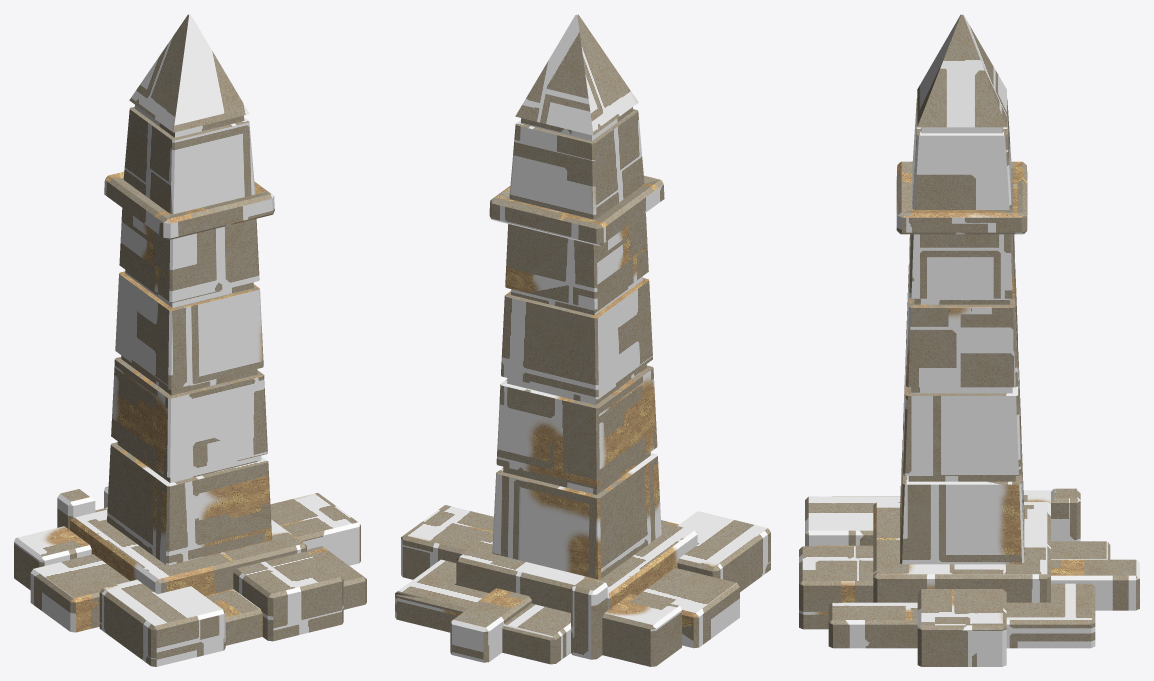
Rendered from Old Structures4.fbx.
3 renders of one model, left to right at view 1: azimuth 30°, elevation 25°; view 2: azimuth 150°, elevation 25°; view 3: azimuth 270°, elevation 25°, orthographic. The views are drawn at different scales.
Parts seen in each view (by area): view 1: Cube.003_Material_0.003, Cube.003_Material_0, Cube.003_Material_0.001, Cube.003_Material_0.002; view 2: Cube.003_Material_0.003, Cube.003_Material_0, Cube.003_Material_0.001, Cube.003_Material_0.002; view 3: Cube.003_Material_0.003, Cube.003_Material_0, Cube.003_Material_0.001, Cube.003_Material_0.002.
Boxes of the visible parts, x1=… form: Cube.003_Material_0.003: x1=70, y1=208, x2=306, y2=595; Cube.003_Material_0: x1=14, y1=105, x2=366, y2=666; Cube.003_Material_0.001: x1=129, y1=14, x2=249, y2=132; Cube.003_Material_0.002: x1=104, y1=171, x2=274, y2=240; Cube.003_Material_0.003: x1=456, y1=213, x2=697, y2=612; Cube.003_Material_0: x1=395, y1=107, x2=770, y2=666; Cube.003_Material_0.001: x1=515, y1=14, x2=638, y2=135; Cube.003_Material_0.002: x1=489, y1=175, x2=664, y2=245; Cube.003_Material_0.003: x1=873, y1=234, x2=1050, y2=602; Cube.003_Material_0: x1=799, y1=98, x2=1139, y2=666; Cube.003_Material_0.001: x1=917, y1=14, x2=1006, y2=127; Cube.003_Material_0.002: x1=896, y1=161, x2=1027, y2=234.
Size of the model in its own units: 387 by 724 by 387.
1 material, 1 textured.
